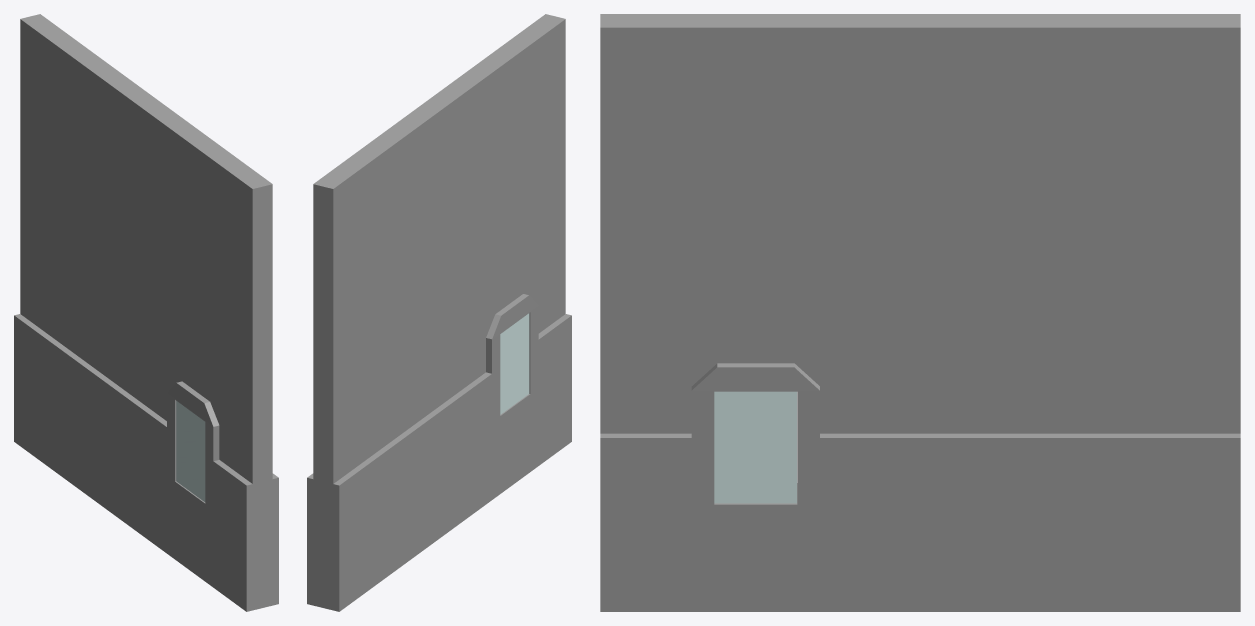
Rendered from SideWindowFBXTest1.fbx.
3 views of the same model, side by side, from view 1: azimuth 30°, elevation 25°; view 2: azimuth 150°, elevation 25°; view 3: azimuth 270°, elevation 25° (orthographic). The views are drawn at different scales.
Visible parts, largest first — view 1: polySurface70; view 2: polySurface70; view 3: polySurface70.
Boxes of the visible parts, <box> form: polySurface70: <box>14,14,278,611</box>; polySurface70: <box>307,14,571,611</box>; polySurface70: <box>600,14,1240,611</box>.
Bounding box in the file's own units: 0.4006 × 5 × 5.
